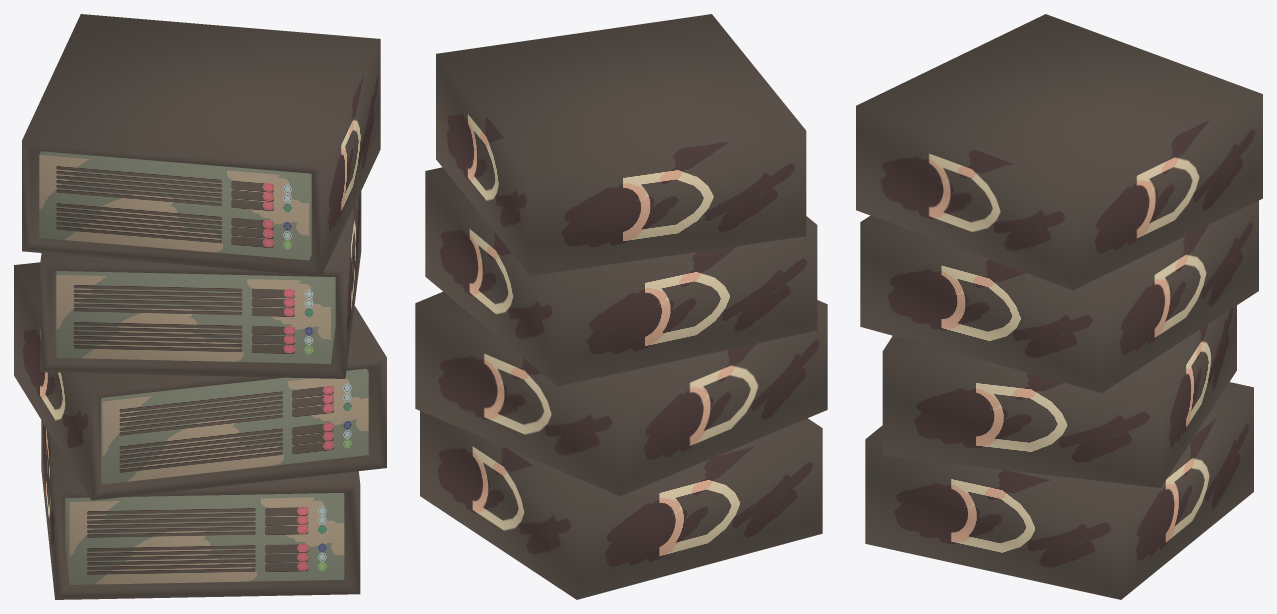
The model's file is or_gate.glb.
3 renders of one model, left to right at view 1: azimuth 30°, elevation 25°; view 2: azimuth 150°, elevation 25°; view 3: azimuth 270°, elevation 25°, orthographic. The views are drawn at different scales.
Visible parts, largest first — view 1: logic_gate; view 2: logic_gate; view 3: logic_gate.
Part boxes in pixels (x1,y1,x2,y2): logic_gate: (14, 14, 386, 599); logic_gate: (415, 14, 827, 599); logic_gate: (856, 14, 1262, 599).
Bounding box in the file's own units: 1.41 × 1.6 × 1.41.
Materials: 1 (1 with a texture image).
